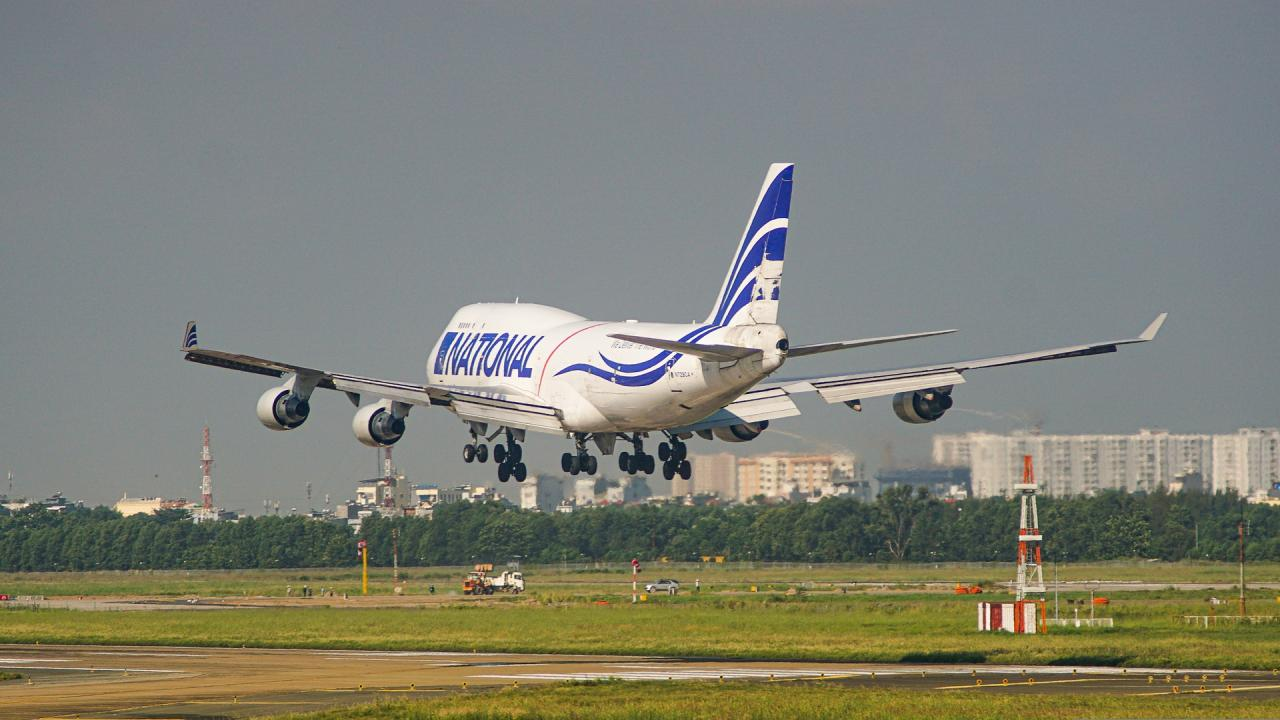Airplane: (174, 150, 1187, 494)
